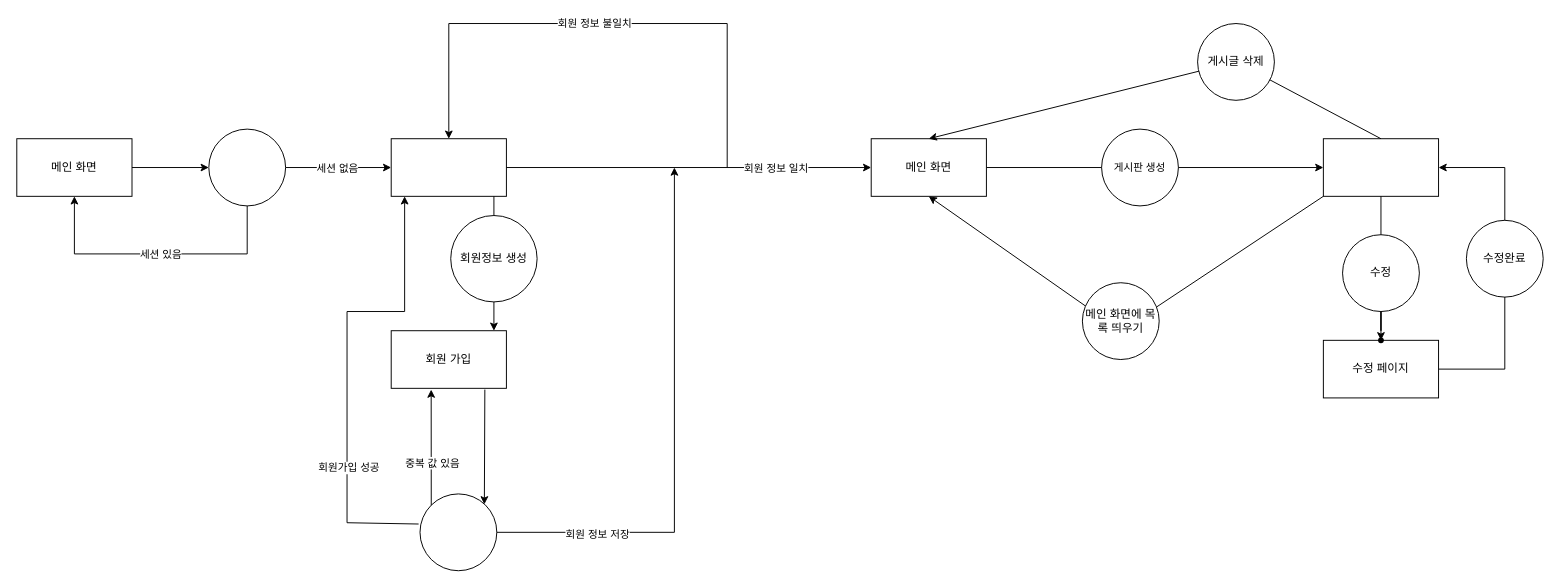
Image size: 1560x588. Some labels were removed from this diagram. Each missing label, with the centre of its shape:
"게시판" belongs at pixel 1380 167.
"로그인" belongs at pixel 448 167.
"인증 확인" belongs at pixel 247 167.
"중복 확인" belongs at pixel 458 532.
